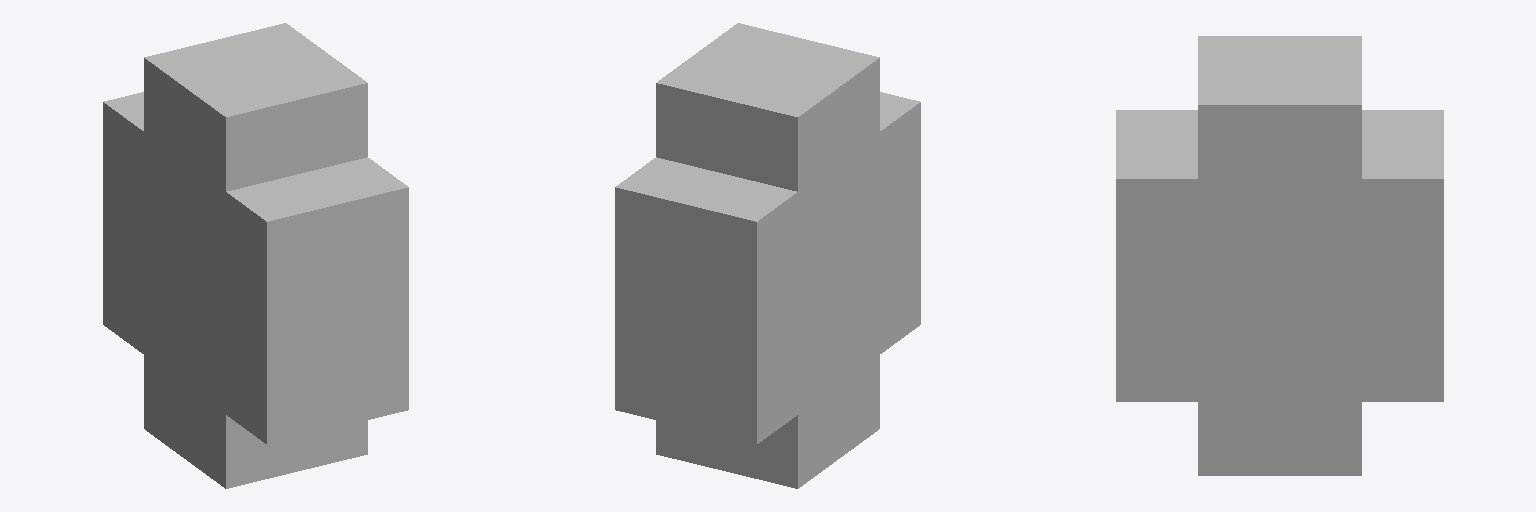
Rendered from Body.obj.
The picture shows the model from 3 angles: view 1: azimuth 30°, elevation 25°; view 2: azimuth 150°, elevation 25°; view 3: azimuth 270°, elevation 25°; orthographic projection.
Visible parts, largest first — view 1: object 1; view 2: object 1; view 3: object 1.
Part boxes in pixels (left/top/right/bottom): object 1: left=103, top=23, right=408, bottom=488; object 1: left=615, top=23, right=920, bottom=488; object 1: left=1116, top=36, right=1443, bottom=475.
Bounding box in the file's own units: 0.2 × 0.5 × 0.4.